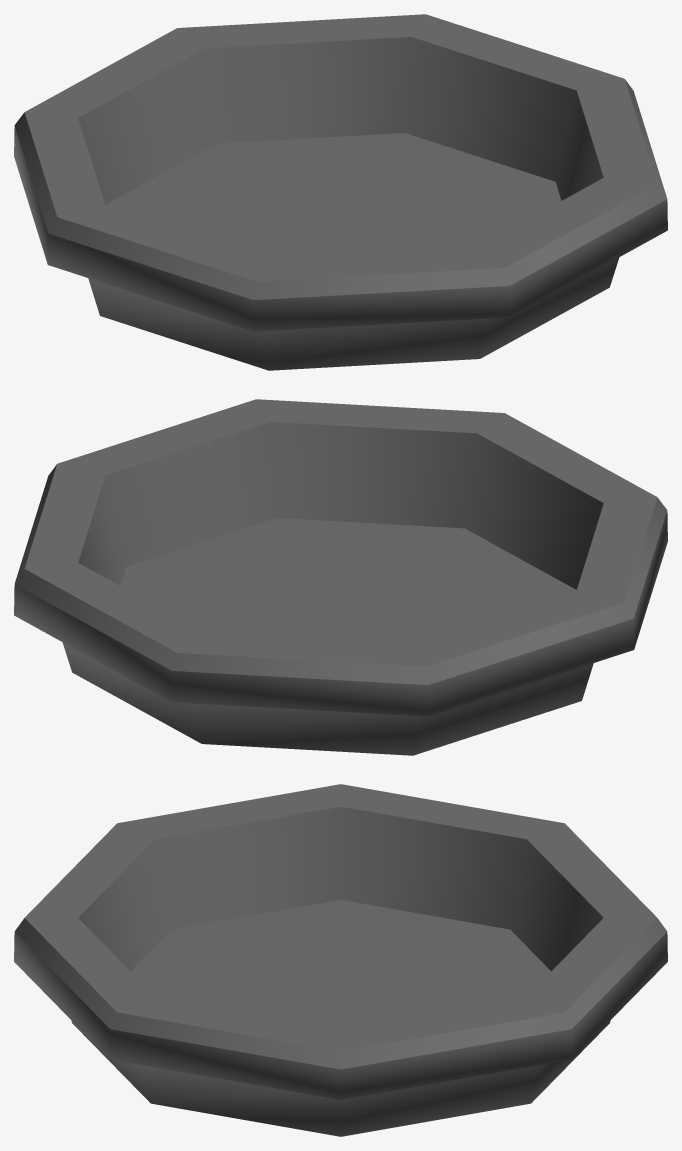
Rendered from Plate_2_B.fbx.
3 views of the same model, one above another, from view 1: azimuth 30°, elevation 25°; view 2: azimuth 150°, elevation 25°; view 3: azimuth 270°, elevation 25° (orthographic). The views are drawn at different scales.
Visible parts, largest first — view 1: Plate_2_B; view 2: Plate_2_B; view 3: Plate_2_B.
Boxes of the visible parts, x1=… form: Plate_2_B: x1=14, y1=14, x2=667, y2=370; Plate_2_B: x1=14, y1=399, x2=667, y2=755; Plate_2_B: x1=14, y1=784, x2=667, y2=1136.
Size of the model in its own units: 19.48 by 3.47 by 19.48.
